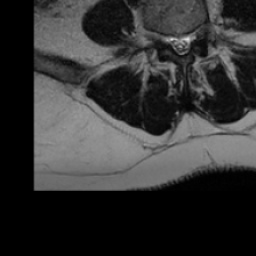CCS_stenosis: (176, 26, 184, 64)
LFS_normal: (191, 19, 201, 48)
LLS_normal: (184, 29, 193, 58)
RFS_normal: (159, 25, 167, 53)
RLS_normal: (167, 27, 176, 56)
